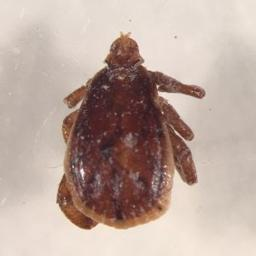Rhipicephalus sanguineus: (56, 31, 205, 230)
